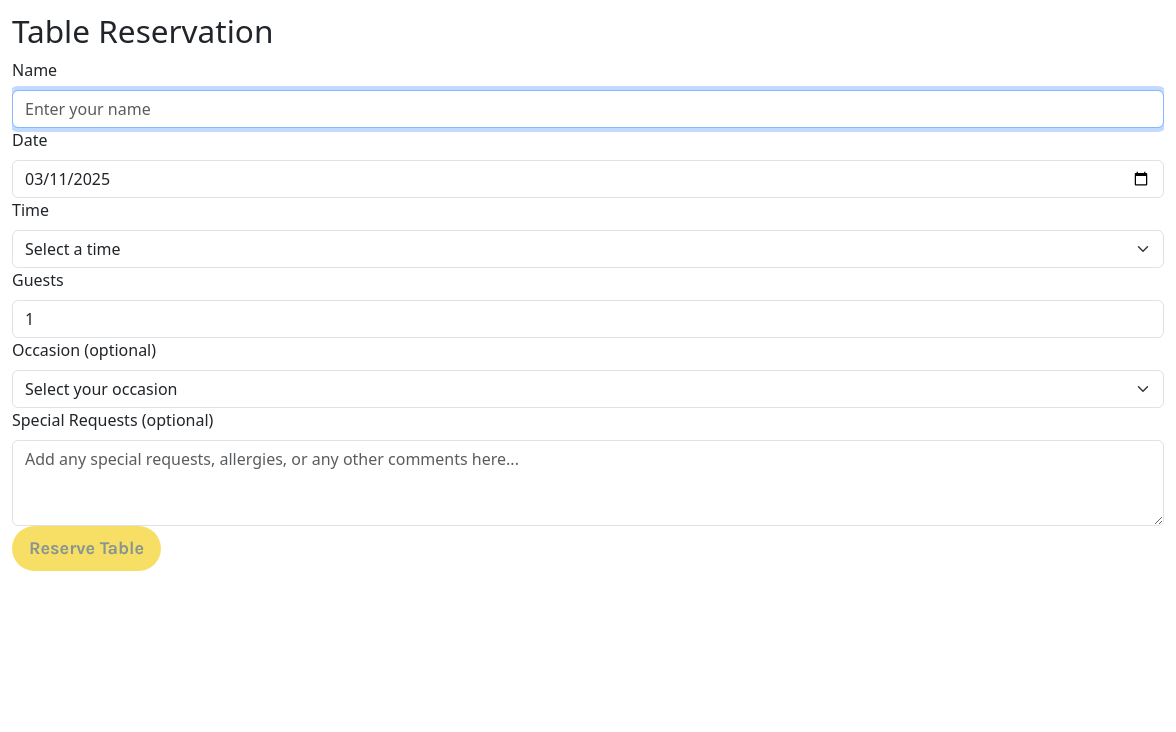
BookingForm Form › validates the form fields
This screenshot has width=1176, height=732.
Click the button "Reserve Table": (87, 548) [12,526,161,571]
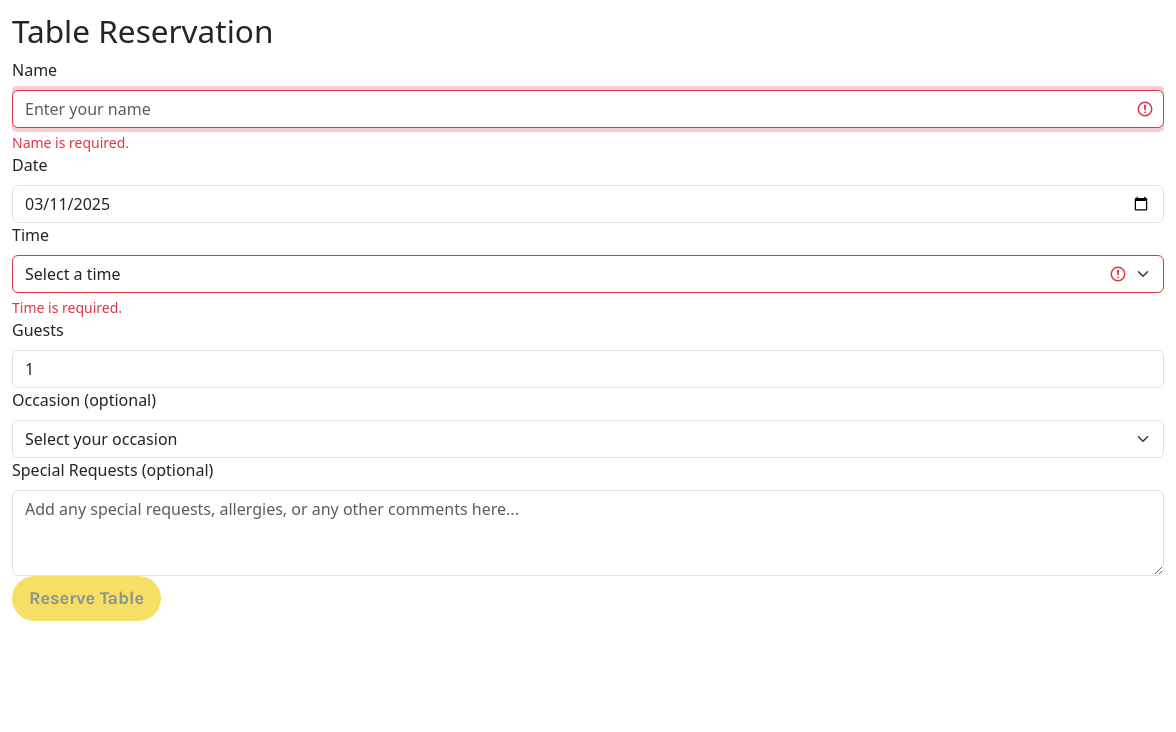
Expected: the button "Reserve Table" is disabled, [12,576,161,621]
Now the text "Name is required." is shown, box [12,133,129,152]
Now the text "Time is required." is shown, box [12,298,122,317]
